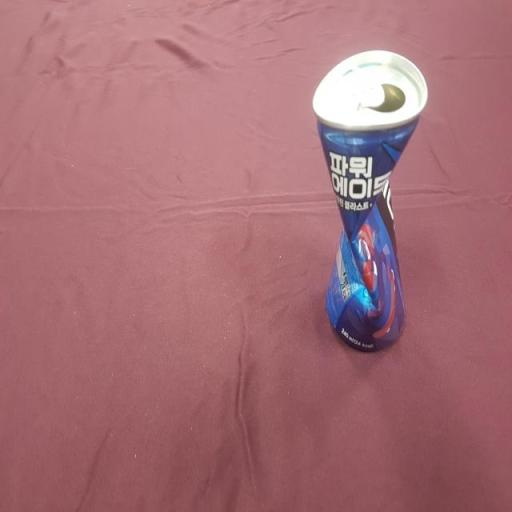metal: (279, 16, 446, 411)
